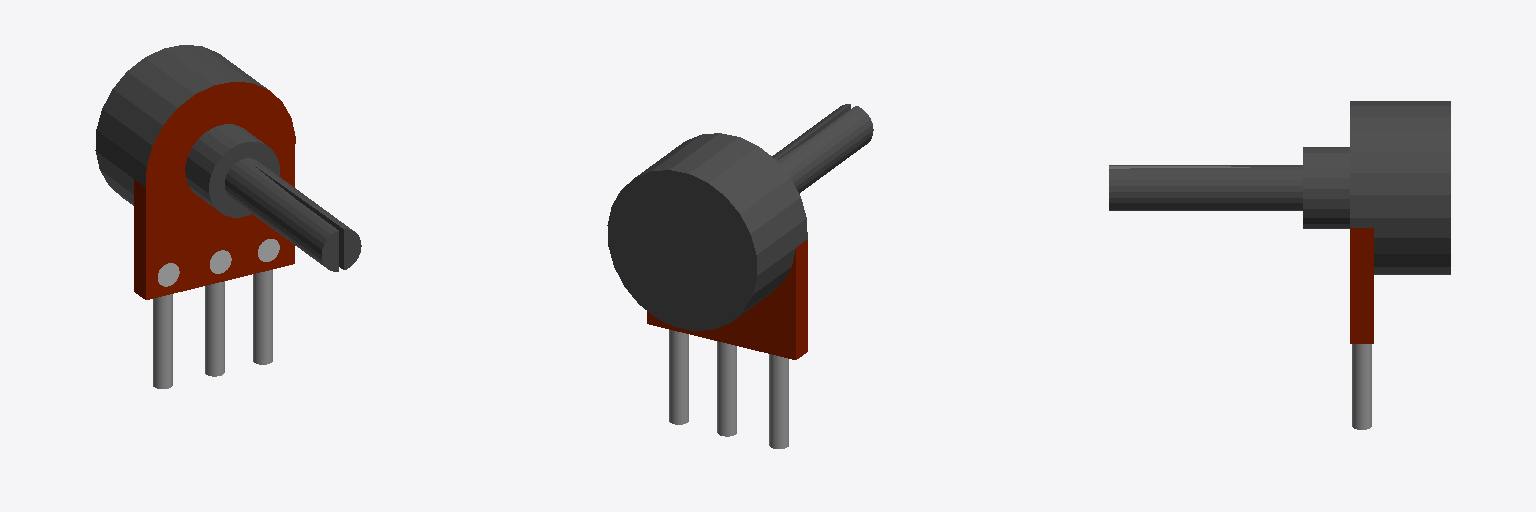
Rendered from potansiyometre.obj.
3 renders of one model, left to right at view 1: azimuth 30°, elevation 25°; view 2: azimuth 150°, elevation 25°; view 3: azimuth 270°, elevation 25°, orthographic.
Visible parts, largest first — view 1: Mesh1 Model; view 2: Mesh1 Model; view 3: Mesh1 Model.
Boxes of the visible parts, box(x1,y1,x2,y2) form: Mesh1 Model: box(95, 45, 361, 388); Mesh1 Model: box(607, 104, 873, 448); Mesh1 Model: box(1109, 101, 1450, 429).
Bounding box in the file's own units: 299 × 558 × 591.